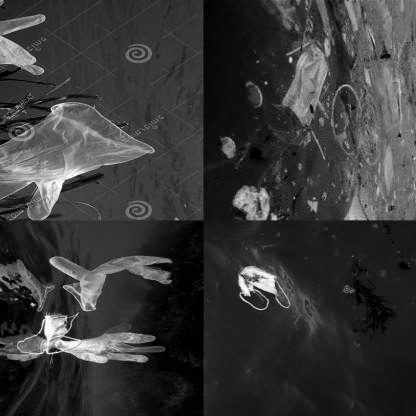Mask: (282, 42, 330, 133), (228, 266, 297, 310), (42, 313, 85, 356)
glove: (0, 102, 160, 220), (48, 250, 181, 316), (68, 324, 170, 366), (0, 0, 53, 78)
